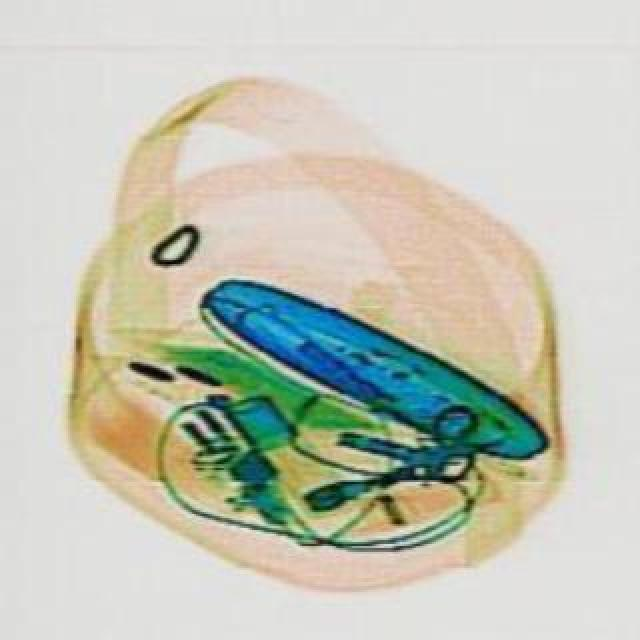pliers: (326, 400, 478, 494)
